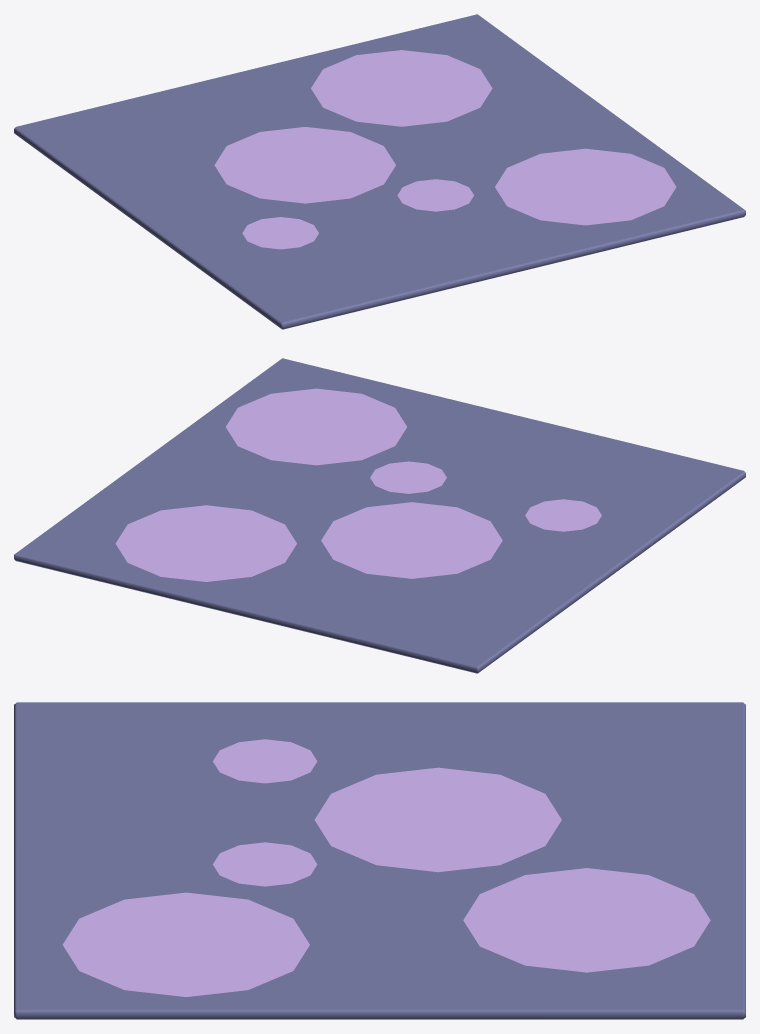
Rendered from Vinyl_box_4.glb.
The picture shows the model from 3 angles, top to bottom: view 1: azimuth 30°, elevation 25°; view 2: azimuth 150°, elevation 25°; view 3: azimuth 270°, elevation 25°; orthographic projection. The views are drawn at different scales.
Parts seen in each view (by area): view 1: Vinyl_box_4; view 2: Vinyl_box_4; view 3: Vinyl_box_4.
Boxes of the visible parts, x1,y1,x2,y2 form: Vinyl_box_4: (14,14,745,329); Vinyl_box_4: (14,358,745,673); Vinyl_box_4: (14,702,745,1019).
Bounding box in the file's own units: 0.2944 × 0.00483 × 0.2944.
1 material, 1 textured.
